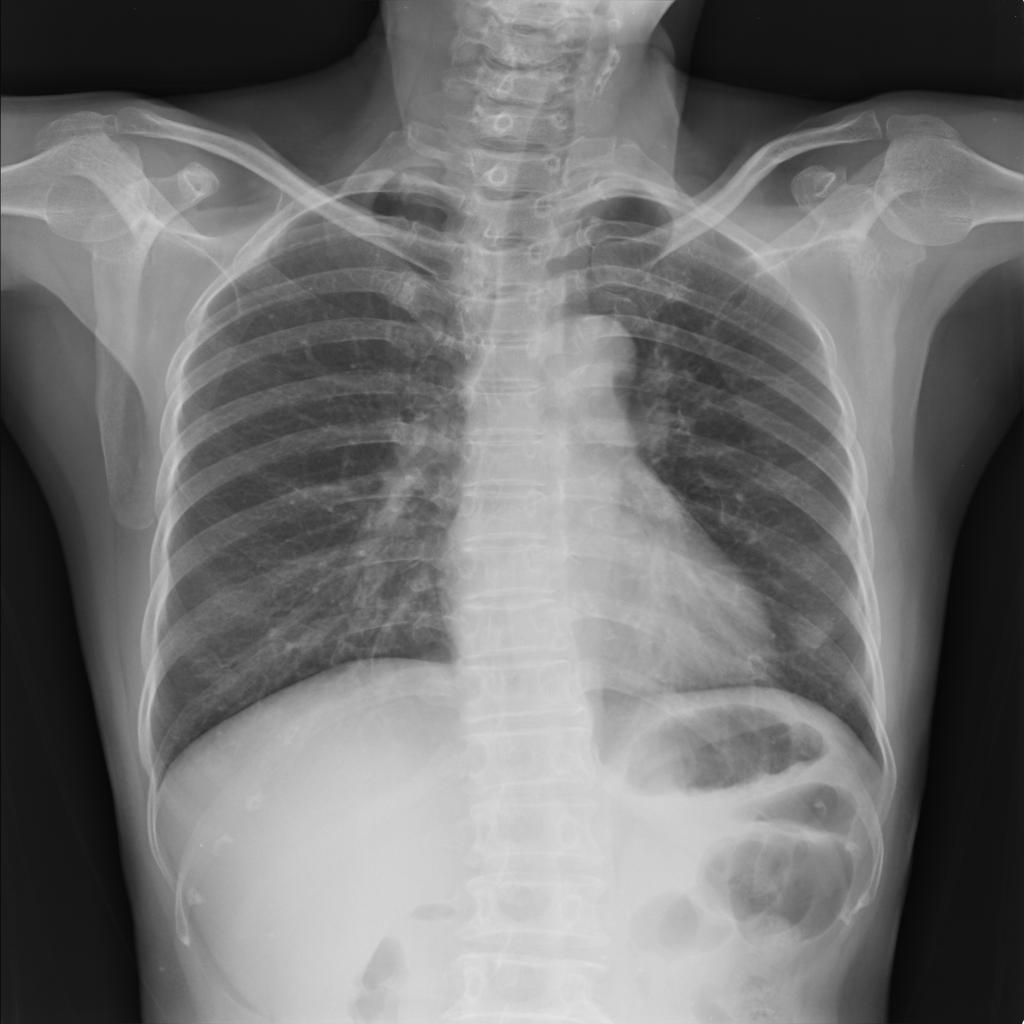Nodule: (788, 610, 838, 654)
